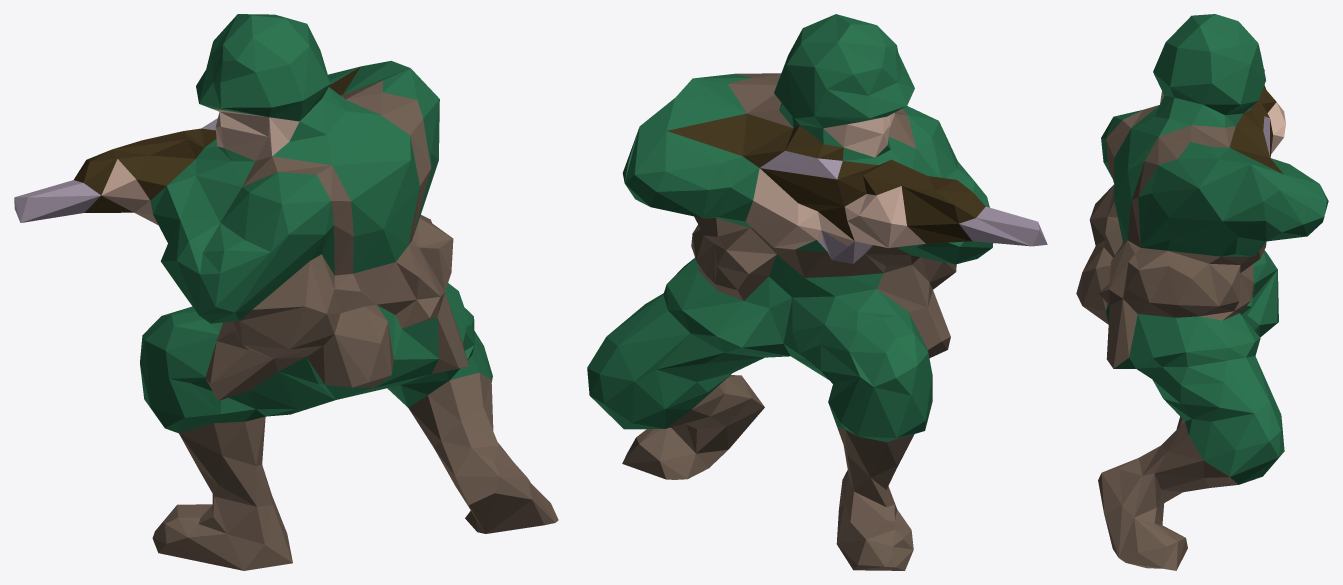
Rendered from airborn_4_low_poly_colored.glb.
3 views of the same model, side by side, from view 1: azimuth 30°, elevation 25°; view 2: azimuth 150°, elevation 25°; view 3: azimuth 270°, elevation 25° (orthographic). The views are drawn at different scales.
Visible parts, largest first — view 1: Airborn_Elite_4; view 2: Airborn_Elite_4; view 3: Airborn_Elite_4.
Boxes of the visible parts, <box> form: Airborn_Elite_4: <box>14,14,558,570</box>; Airborn_Elite_4: <box>587,14,1047,570</box>; Airborn_Elite_4: <box>1076,14,1328,570</box>.
Size of the model in its own units: 1.39 by 1.48 by 0.7518.
